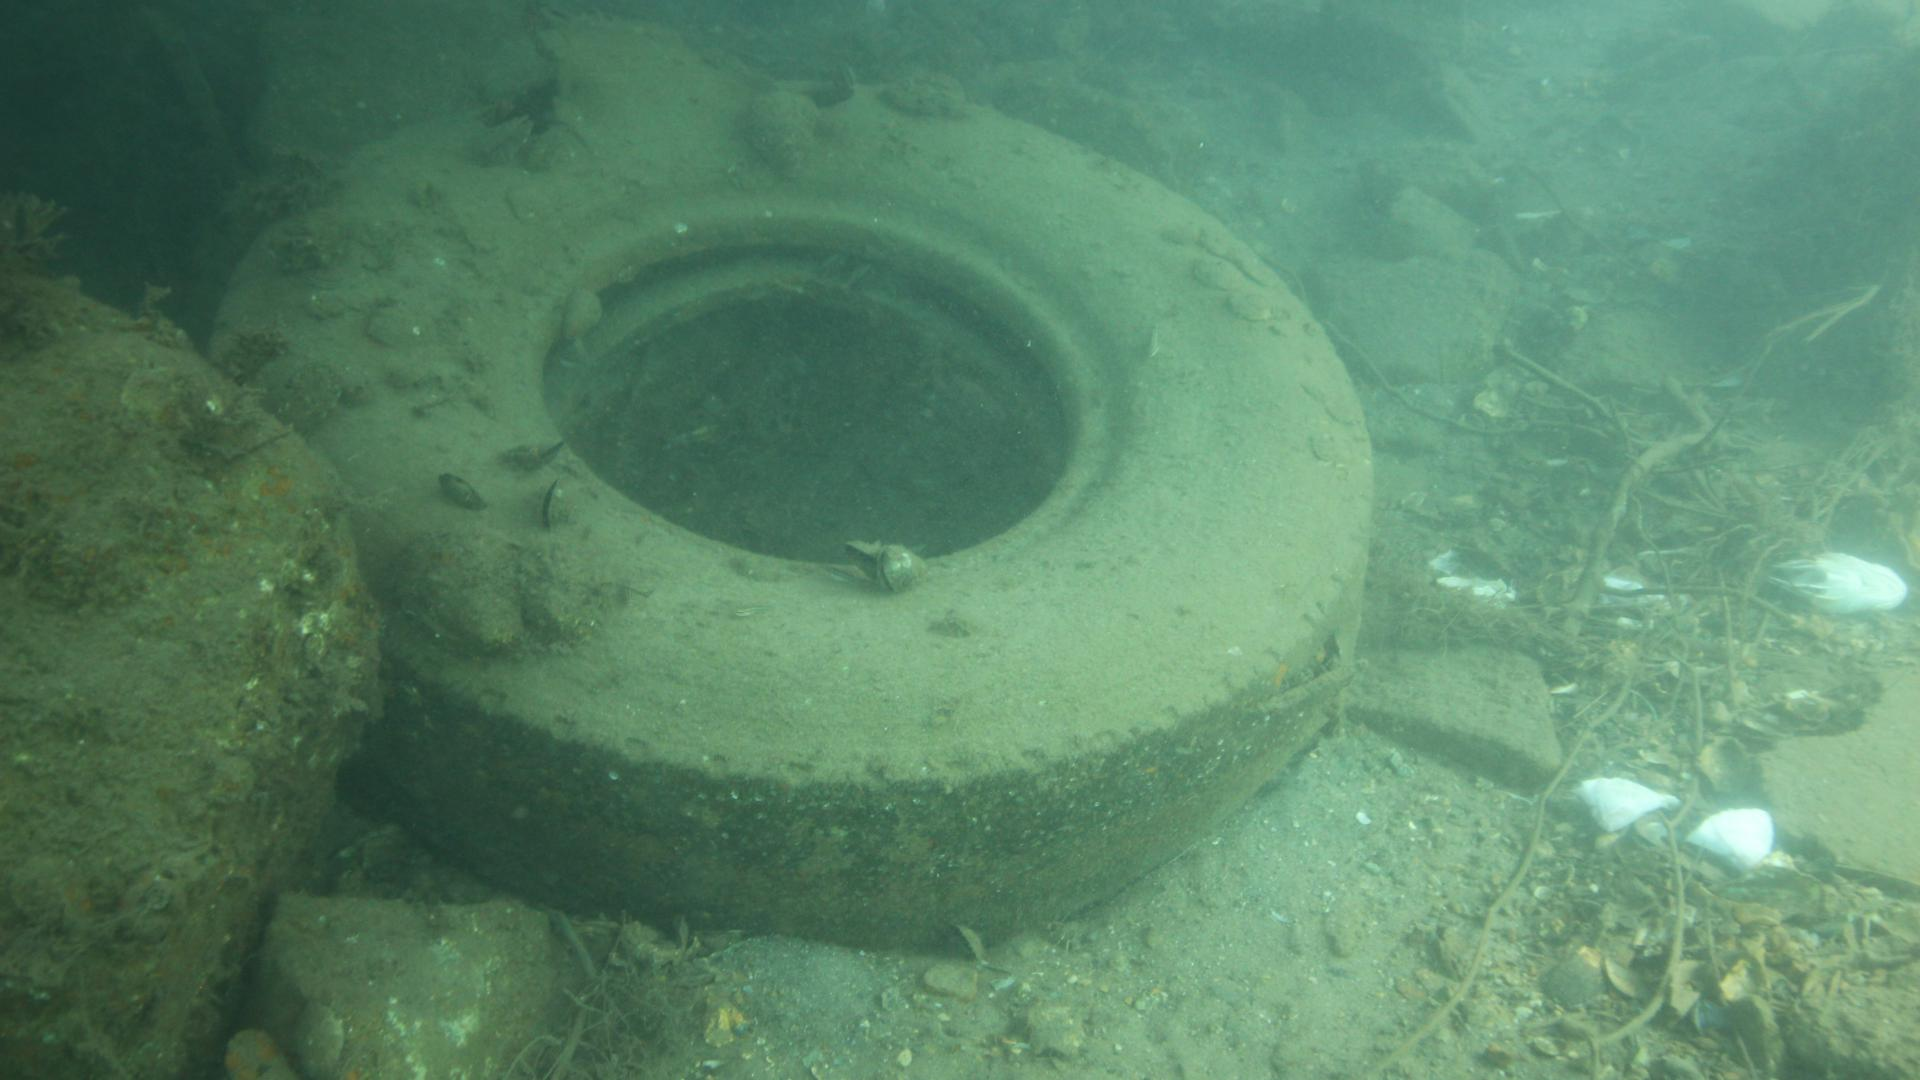tire: (206, 59, 1373, 957)
